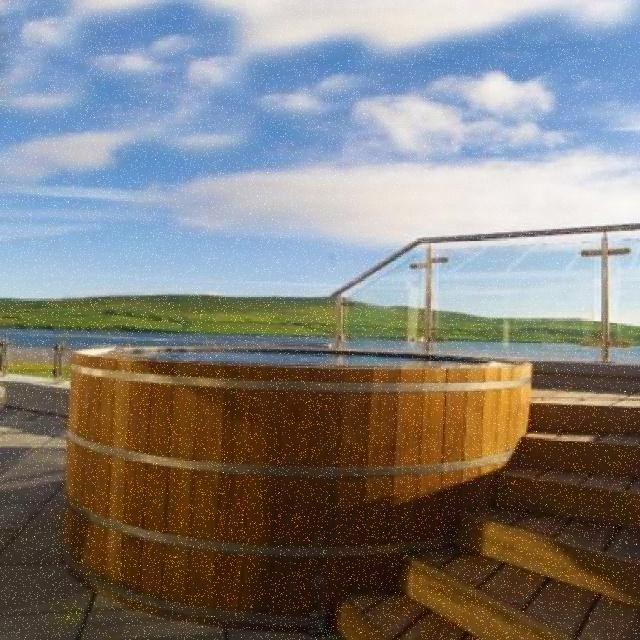stair: (334, 406, 640, 640)
